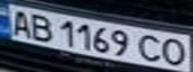1: (54, 17, 78, 47), (72, 20, 93, 51)
6: (90, 24, 112, 54)
9: (109, 27, 133, 57)
A: (6, 7, 36, 38)
B: (24, 11, 57, 43)
C: (136, 31, 166, 64)
O: (160, 36, 190, 68)
